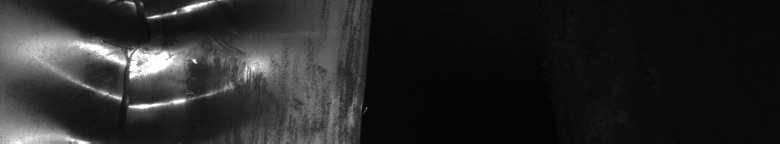ke: (52, 4, 266, 136)
